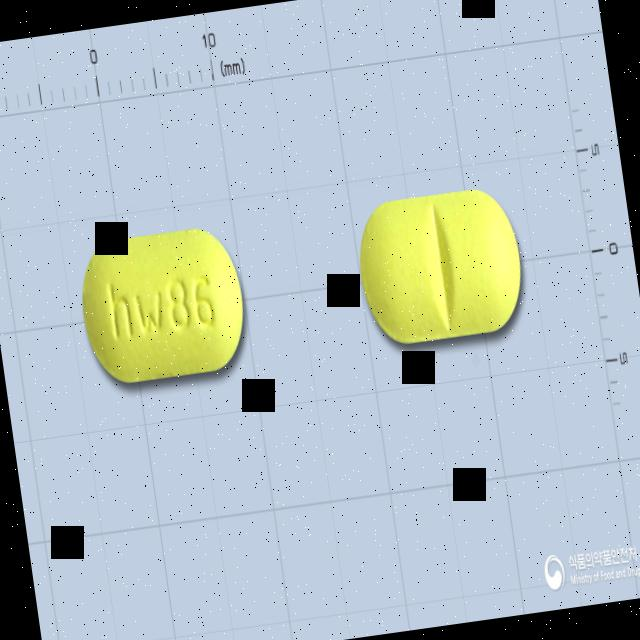Clarithin: (70, 218, 257, 396)
